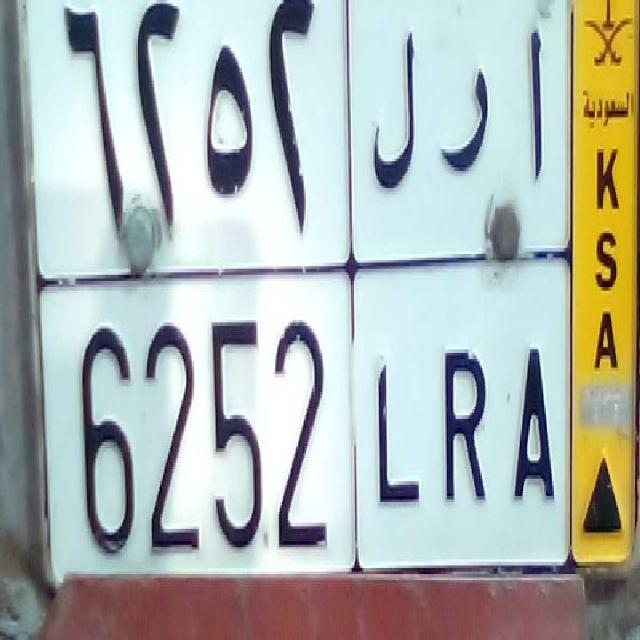license_plate: (57, 273, 567, 584)
